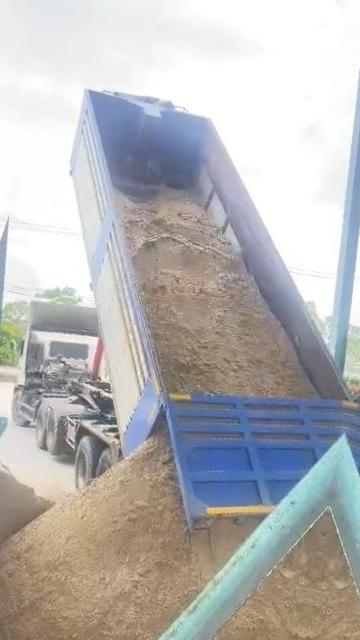sand: (0, 435, 253, 640), (118, 190, 316, 397), (167, 530, 320, 640), (0, 454, 56, 602)
